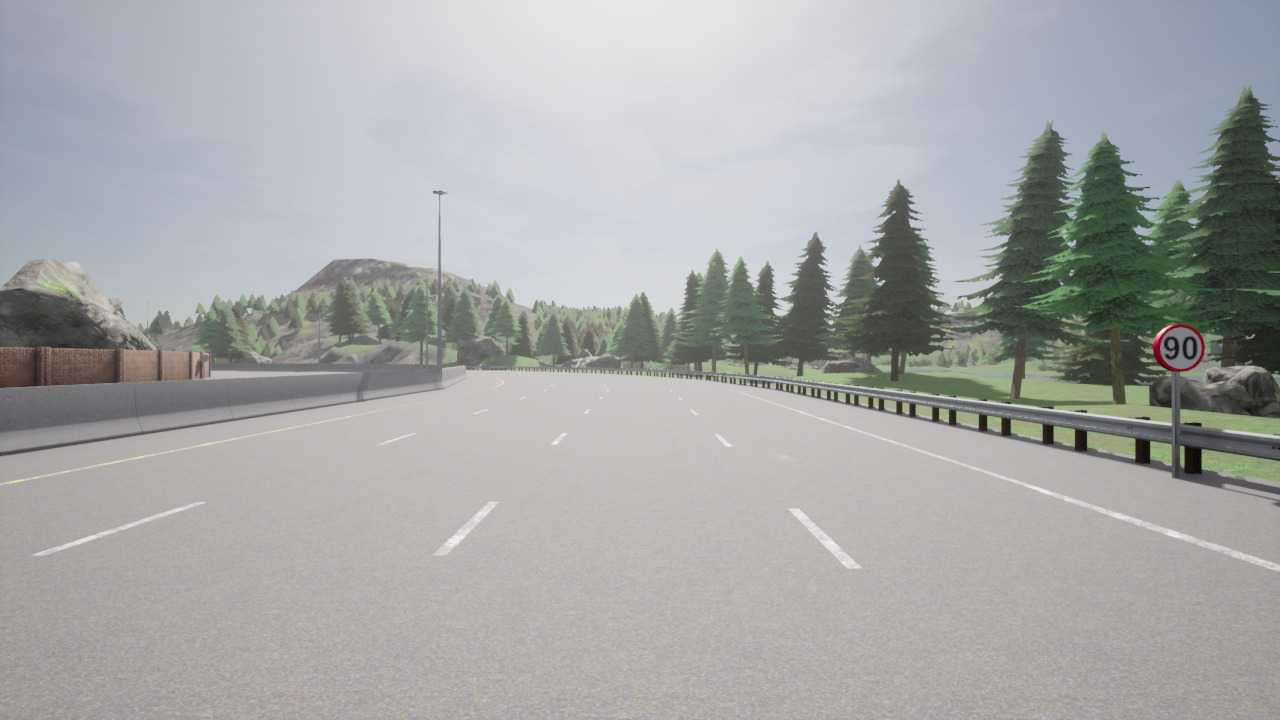sl90: (1152, 323, 1206, 373)
